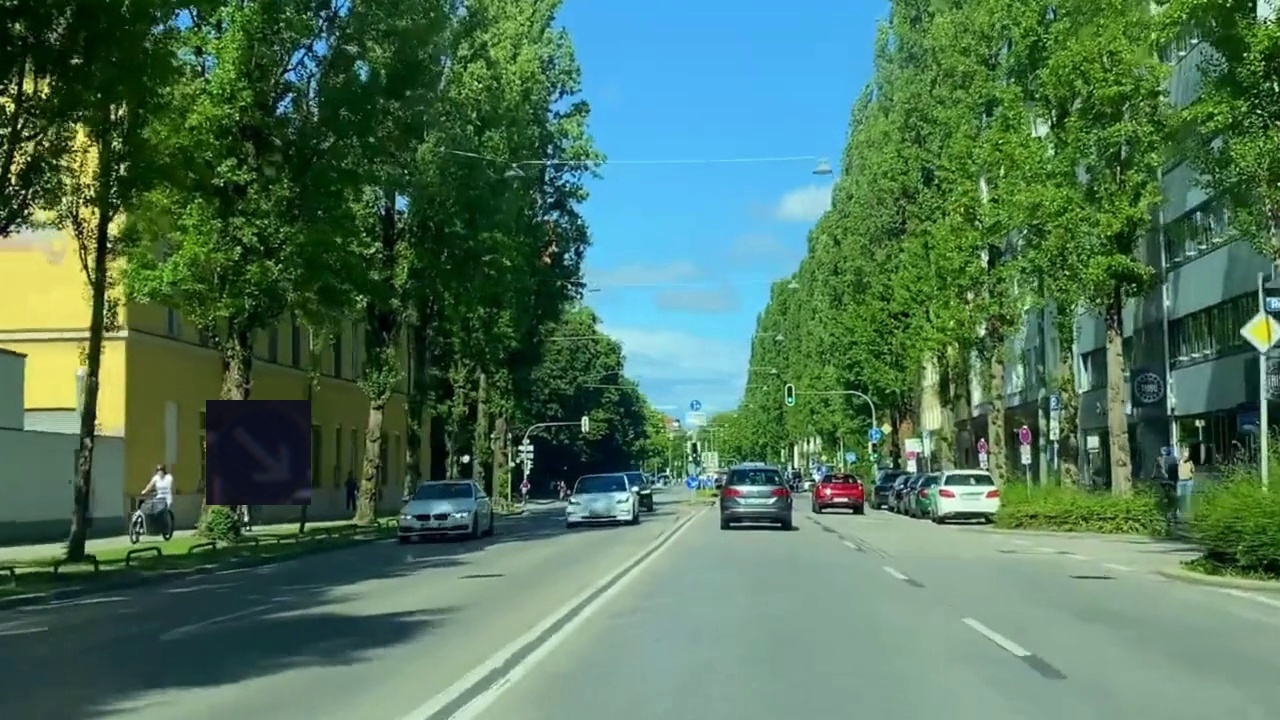Keep right: (206, 400, 311, 505)
